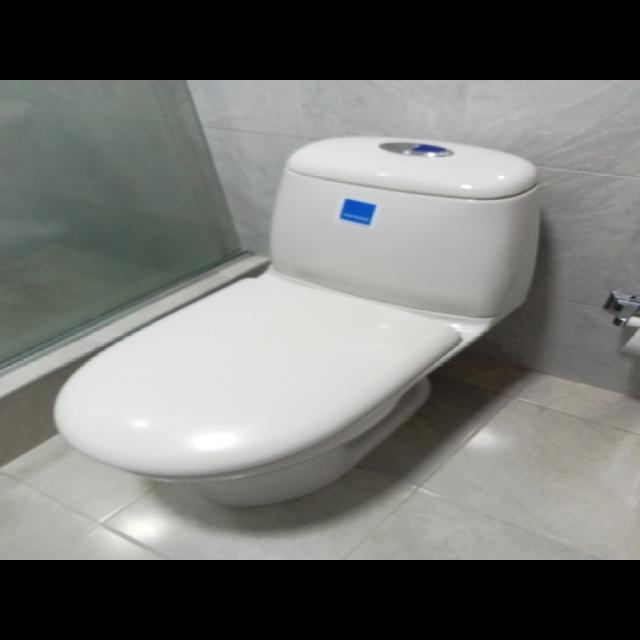toilet: (51, 134, 542, 508)
